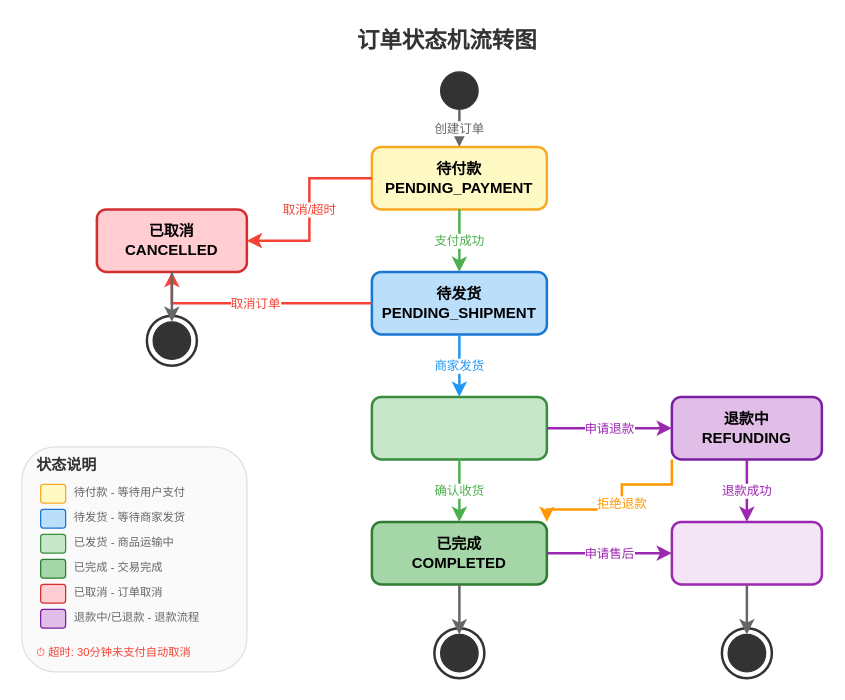
This 845x700 diagram has some shape labels left out. Here are the shapes that lost their labels. From the top down, the centre of each, then its label:
At [459,427]: "已发货 SHIPPED".
At [746,552]: "已退款 REFUNDED".
